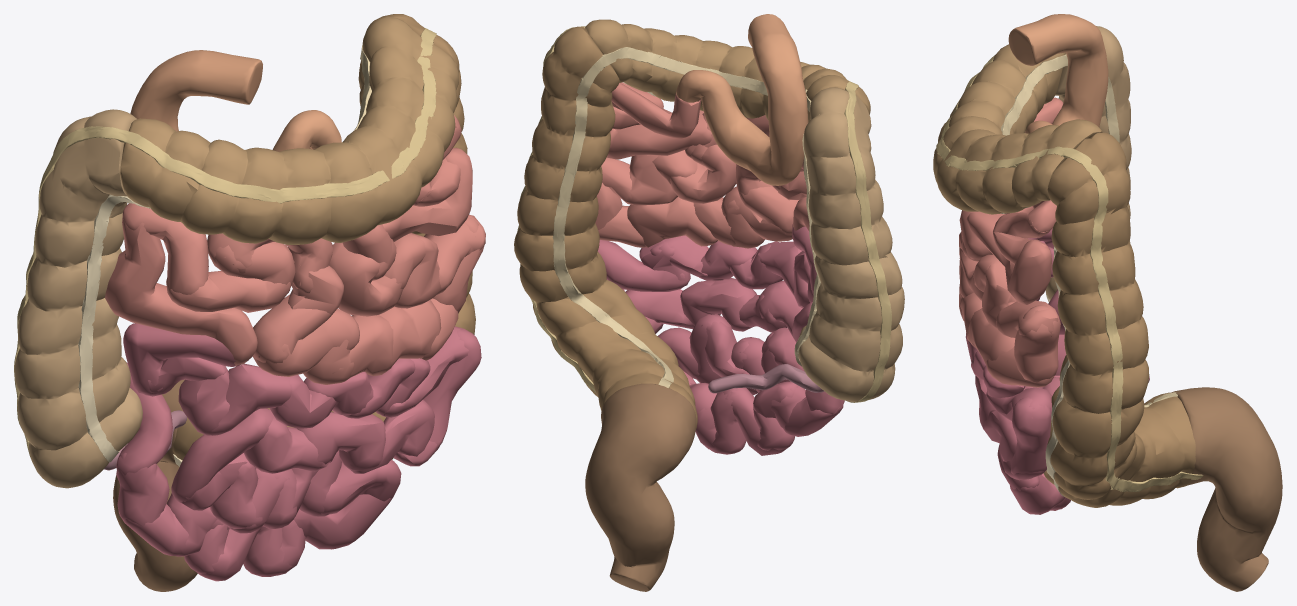
Rendered from intestines.glb.
The picture shows the model from 3 angles, left to right: view 1: azimuth 30°, elevation 25°; view 2: azimuth 150°, elevation 25°; view 3: azimuth 270°, elevation 25°; orthographic projection. The views are drawn at different scales.
Parts seen in each view (by area): view 1: ileum, jejunum, transverse-colon, ascending-colon, duodenum, omental-taenia, free-taenia, rectum, descending-colon; view 2: ileum, descending-colon, jejunum, ascending-colon, rectum, duodenum, transverse-colon, mesocolic-taenia, omental-taenia, appendix; view 3: descending-colon, jejunum, transverse-colon, rectum, ileum, duodenum, omental-taenia, ascending-colon, mesocolic-taenia, free-taenia.
Boxes of the visible parts, bbox=[...] form: ileum: bbox=[116, 323, 481, 581]; jejunum: bbox=[105, 115, 485, 384]; transverse-colon: bbox=[120, 16, 458, 244]; ascending-colon: bbox=[14, 109, 142, 488]; duodenum: bbox=[130, 50, 341, 151]; omental-taenia: bbox=[14, 28, 436, 458]; free-taenia: bbox=[78, 194, 182, 466]; rectum: bbox=[113, 379, 197, 591]; descending-colon: bbox=[172, 14, 475, 460]; ileum: bbox=[597, 224, 844, 455]; descending-colon: bbox=[514, 26, 697, 429]; jejunum: bbox=[595, 82, 809, 248]; ascending-colon: bbox=[798, 87, 904, 401]; rectum: bbox=[585, 383, 696, 591]; duodenum: bbox=[676, 14, 808, 185]; transverse-colon: bbox=[585, 19, 870, 122]; mesocolic-taenia: bbox=[552, 47, 820, 387]; omental-taenia: bbox=[517, 26, 891, 402]; appendix: bbox=[708, 364, 824, 393]; descending-colon: bbox=[1043, 132, 1195, 507]; jejunum: bbox=[959, 97, 1063, 387]; transverse-colon: bbox=[933, 44, 1102, 214]; rectum: bbox=[1171, 387, 1282, 591]; ileum: bbox=[965, 228, 1070, 514]; duodenum: bbox=[1008, 14, 1108, 133]; omental-taenia: bbox=[936, 55, 1203, 491]; ascending-colon: bbox=[1045, 26, 1131, 301]; mesocolic-taenia: bbox=[1001, 54, 1177, 407]; free-taenia: bbox=[1001, 96, 1070, 496].
Size of the model in its own units: 2.93 by 3.84 by 2.23.
